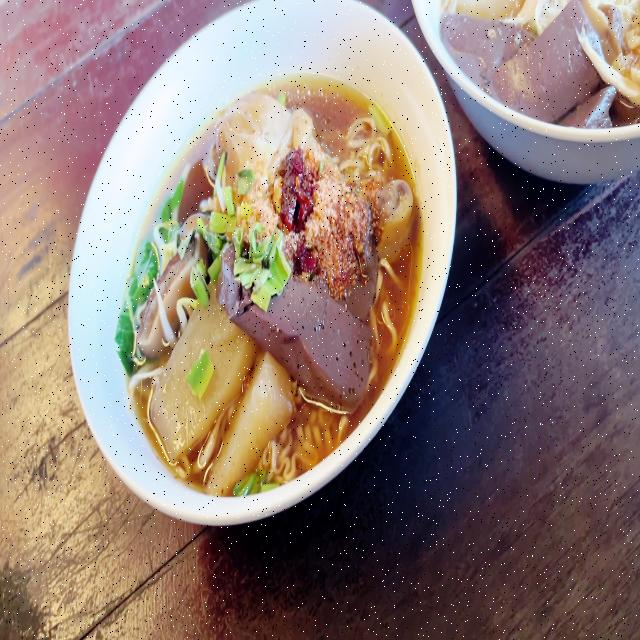boiled_chicken_blood_jelly: (437, 4, 618, 135), (278, 278, 380, 398)
chicken_drumstick: (220, 90, 416, 250)
daikon_radish: (151, 316, 286, 479)
noodle: (118, 59, 417, 494), (428, 0, 640, 171)
